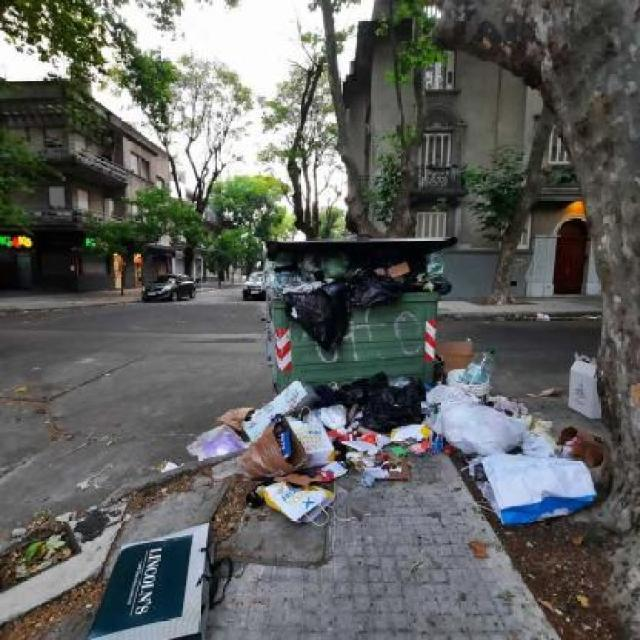garbage: (5, 434, 344, 640), (191, 373, 606, 539), (262, 251, 465, 352), (515, 310, 638, 449), (436, 322, 525, 430)
